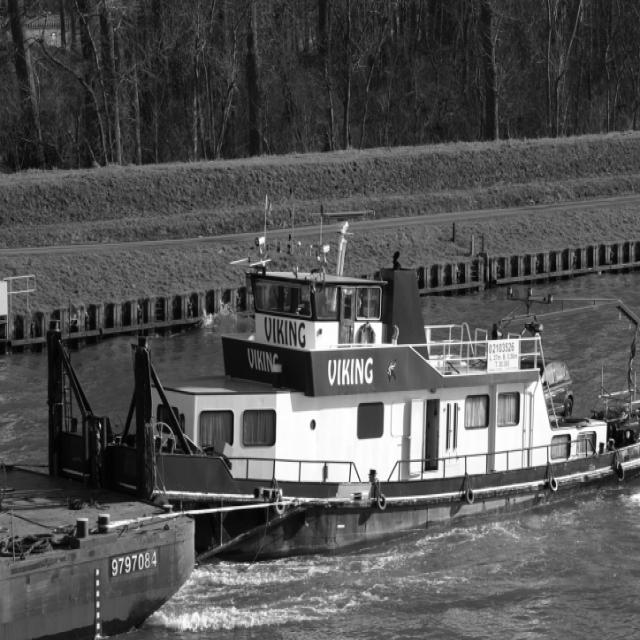tugboat: (40, 202, 640, 574)
